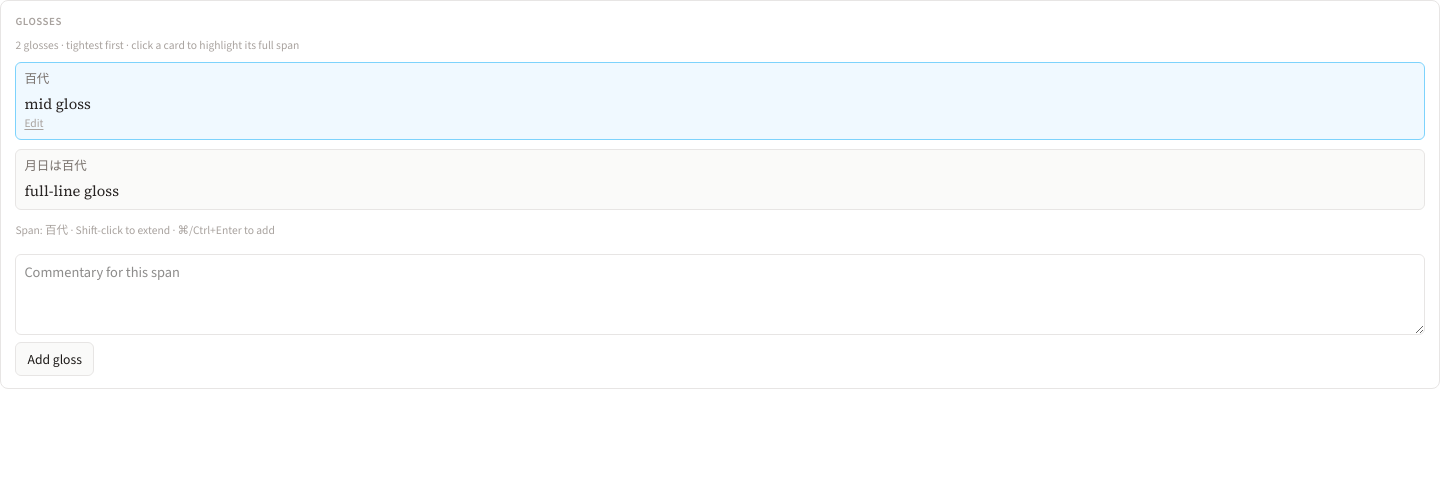
Test case: GlossPanel › exits edit mode on Escape without saving
This screenshot has width=1440, height=496.
Click the button "Edit" at (34, 123), box [24,115,44,132]
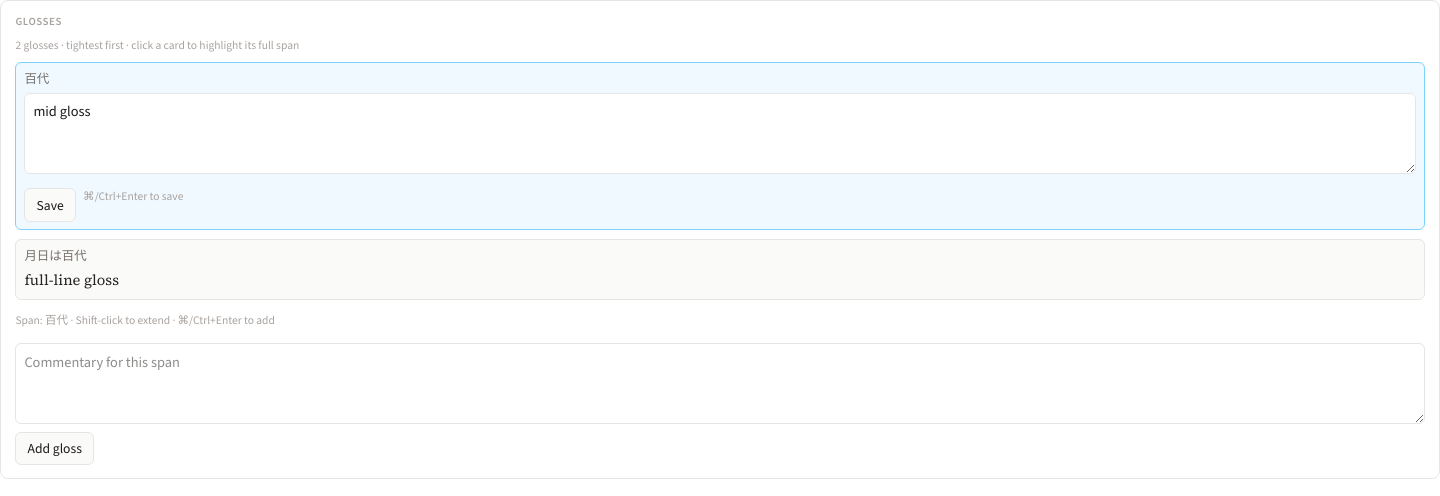
Replace the text in the text box named "Edit gloss commentary" with "scratch" at (720, 133), box [24,93,1416,174]
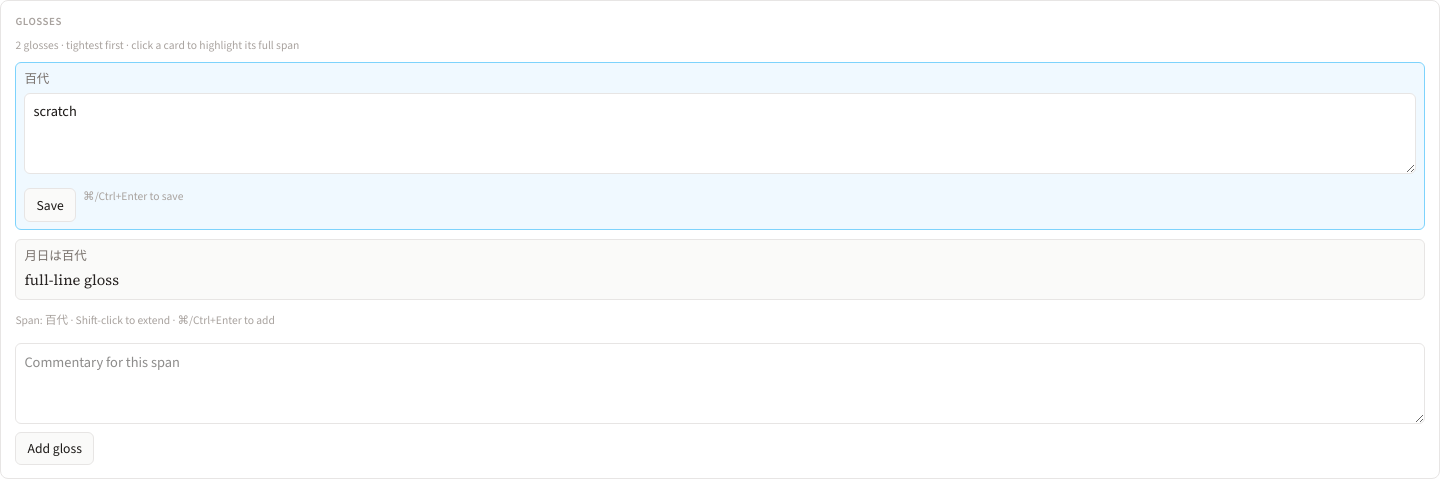
Press Escape in the text box named "Edit gloss commentary", box [24,93,1416,174]
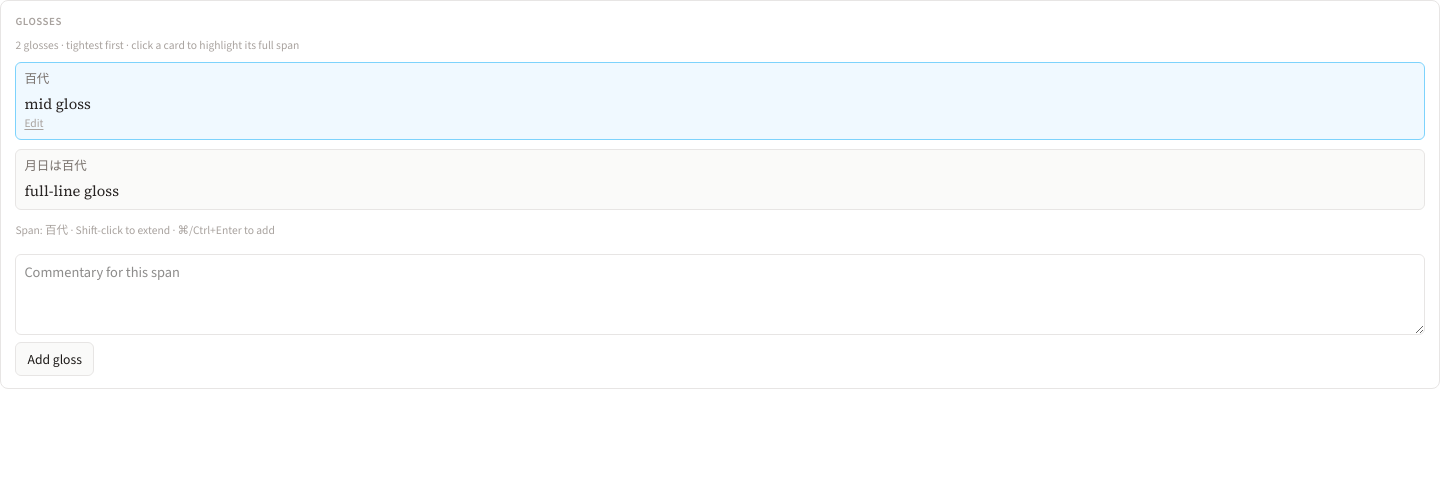
Expected: the text "mid gloss" is shown, [24,94,91,114]
Expected: the button "Edit" is shown, [24,115,44,132]
